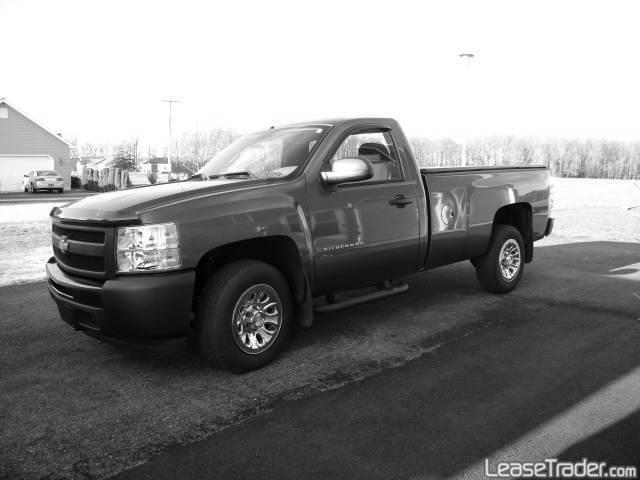car: (45, 114, 557, 373)
